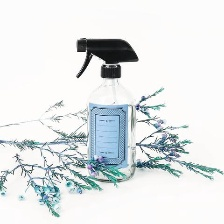bottle: (83, 61, 140, 185)
